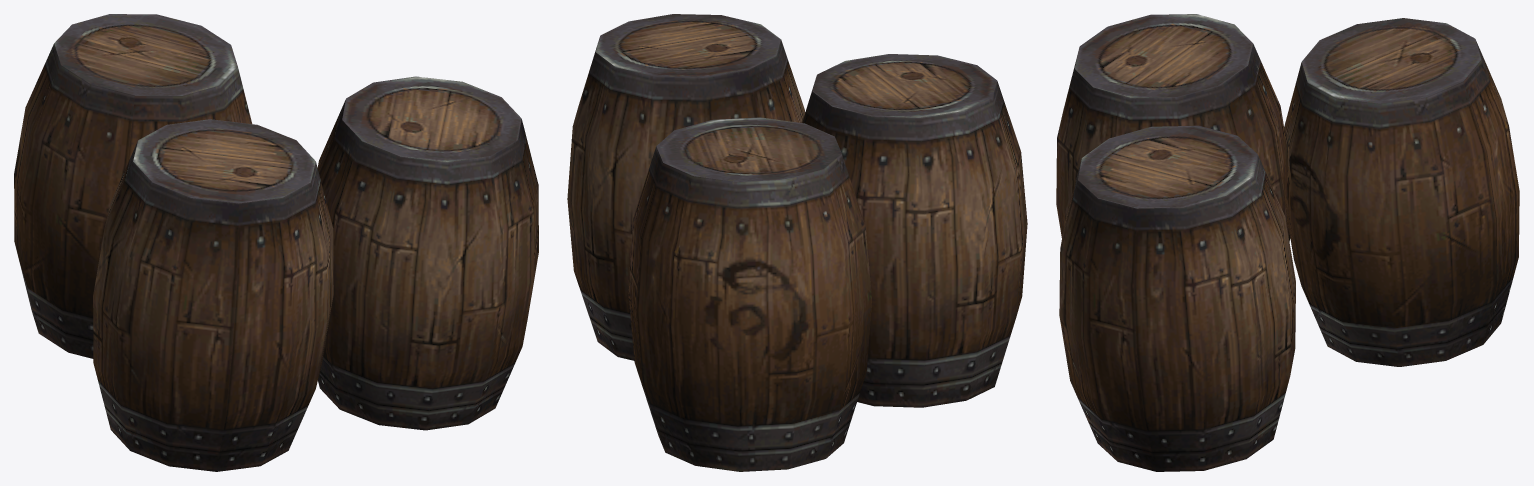
File: 4007_Item_wuqi_2.FBX
3 views of the same model, side by side, from view 1: azimuth 30°, elevation 25°; view 2: azimuth 150°, elevation 25°; view 3: azimuth 270°, elevation 25° (orthographic). The views are drawn at different scales.
Visible parts, largest first — view 1: 4007_Item_wuqi_2; view 2: 4007_Item_wuqi_2; view 3: 4007_Item_wuqi_2.
Part boxes in pixels (x1,y1,x2,y2): 4007_Item_wuqi_2: [14, 14, 538, 471]; 4007_Item_wuqi_2: [567, 14, 1027, 471]; 4007_Item_wuqi_2: [1056, 14, 1519, 471].
Bounding box in the file's own units: 17570 × 12543 × 17183.
